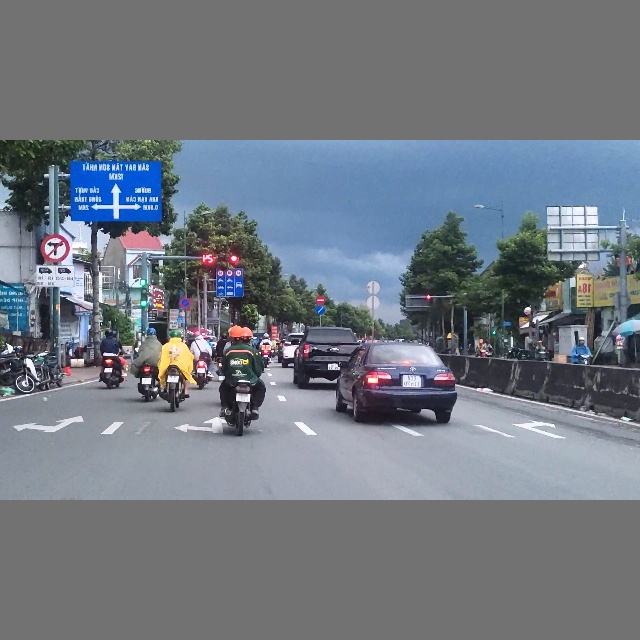P.102: (316, 296, 325, 305)
P.127*60: (235, 270, 242, 276), (226, 270, 233, 276), (217, 270, 223, 276)
P.131a: (179, 297, 192, 310)
P.137: (40, 234, 70, 262)
R.302a: (316, 306, 325, 314)
R.415a: (216, 277, 243, 297)
